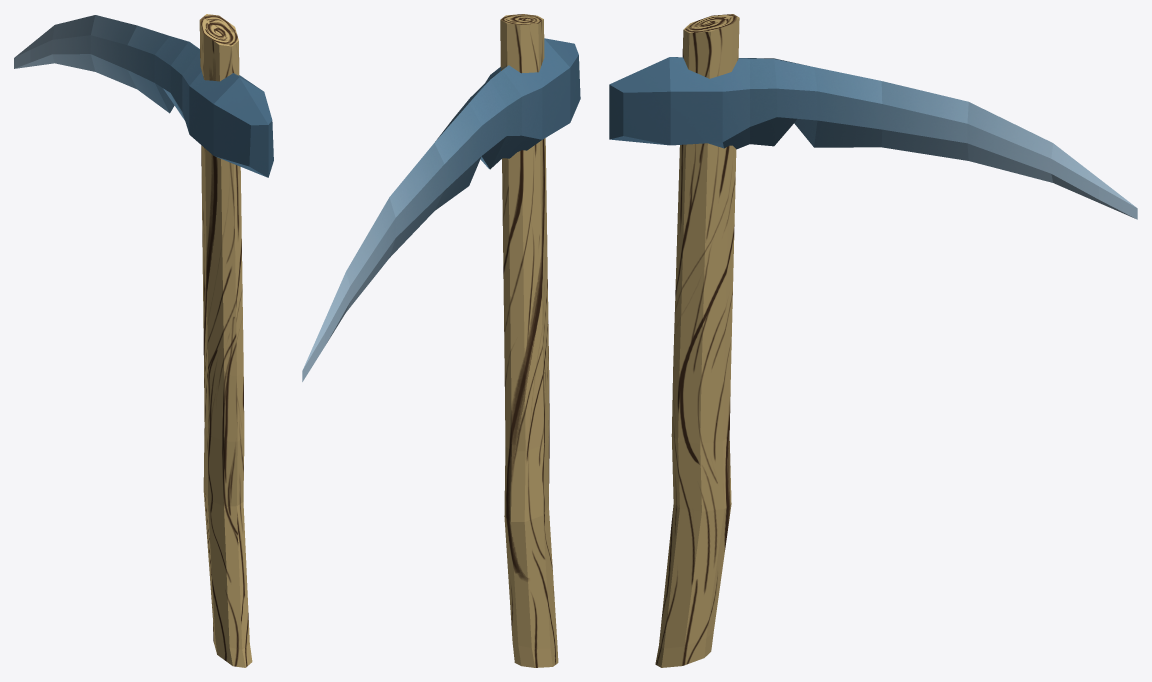
Rendered from Foice_simples.fbx.
3 renders of one model, left to right at view 1: azimuth 30°, elevation 25°; view 2: azimuth 150°, elevation 25°; view 3: azimuth 270°, elevation 25°, orthographic. The views are drawn at different scales.
Parts seen in each view (by area): view 1: Cube, Plane.002; view 2: Cube, Plane.002; view 3: Cube, Plane.002.
Part boxes in pixels (left/top/right/bottom): Cube: left=199, top=14, right=252, bottom=667; Plane.002: left=14, top=15, right=273, bottom=177; Cube: left=500, top=14, right=558, bottom=667; Plane.002: left=302, top=38, right=580, bottom=381; Cube: left=655, top=14, right=739, bottom=667; Plane.002: left=609, top=57, right=1137, bottom=219.
Bounding box in the file's own units: 11.81 × 139 × 103.
